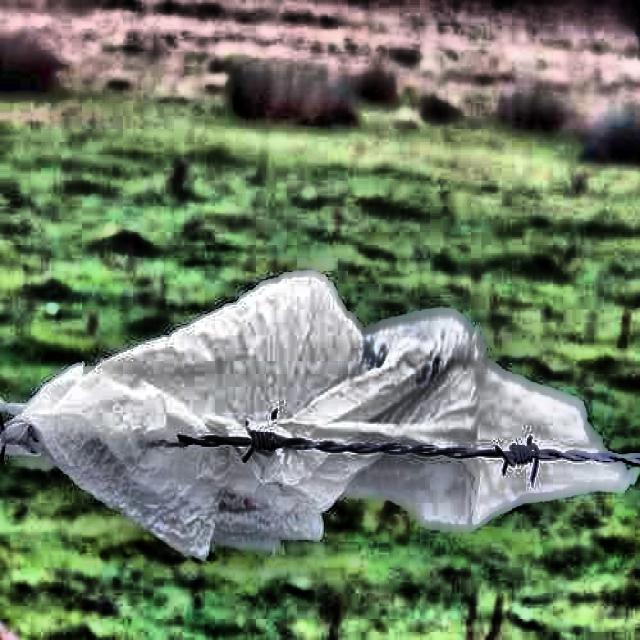Plastic: (16, 241, 640, 559)
